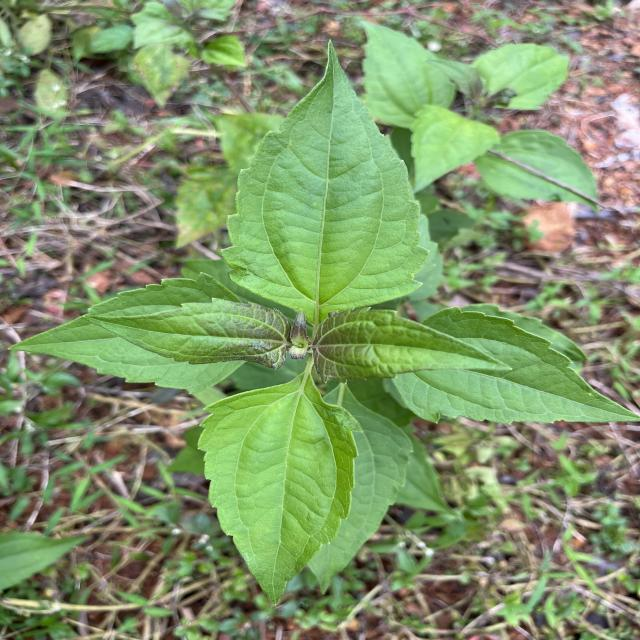Chromolaena odorata: (214, 36, 436, 327), (194, 370, 368, 608), (385, 301, 640, 431), (80, 294, 294, 372)
